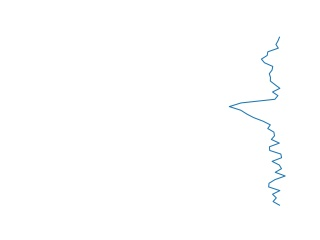interdistributaryEstuary: (225, 37, 289, 208)
